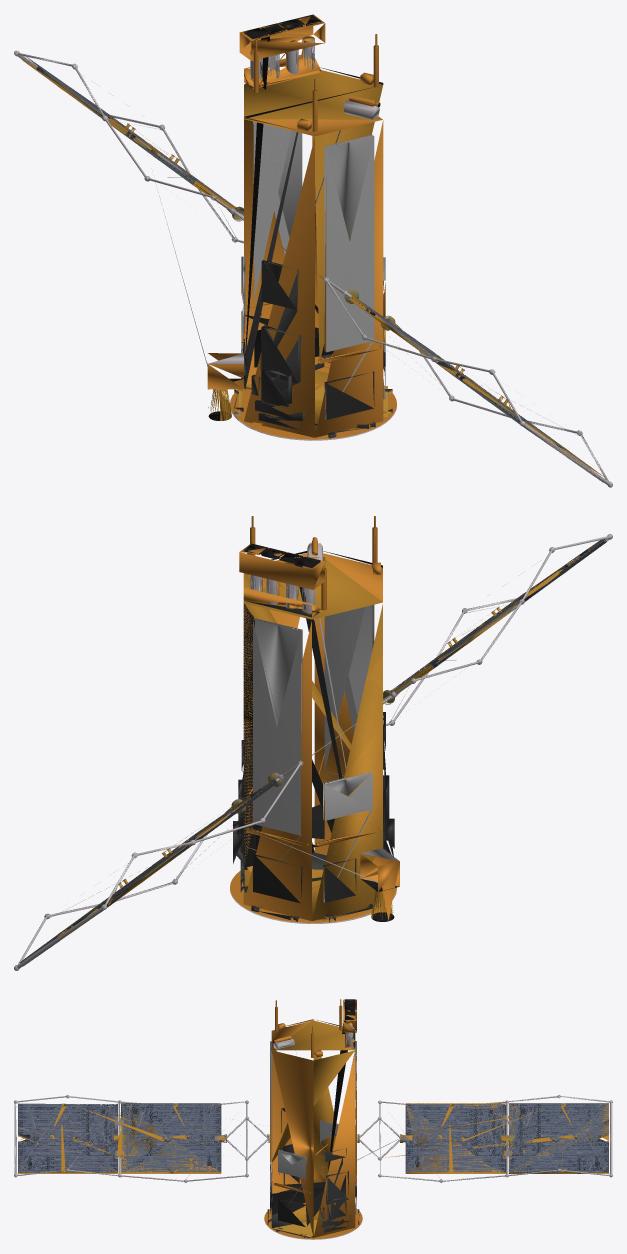
The model's file is earthObservationSat.dae.
The picture shows the model from 3 angles, top to bottom: view 1: azimuth 30°, elevation 25°; view 2: azimuth 150°, elevation 25°; view 3: azimuth 270°, elevation 25°; orthographic projection. The views are drawn at different scales.
Visible parts, largest first — view 1: node_00000000_0000_0000_0000_000000000000_mesh0; view 2: node_00000000_0000_0000_0000_000000000000_mesh0; view 3: node_00000000_0000_0000_0000_000000000000_mesh0.
Part boxes in pixels (left/top/right/bottom): node_00000000_0000_0000_0000_000000000000_mesh0: left=14, top=14, right=612, bottom=487; node_00000000_0000_0000_0000_000000000000_mesh0: left=14, top=516, right=612, bottom=970; node_00000000_0000_0000_0000_000000000000_mesh0: left=14, top=999, right=612, bottom=1239.
Size of the model in its own units: 247 by 499 by 1290.
